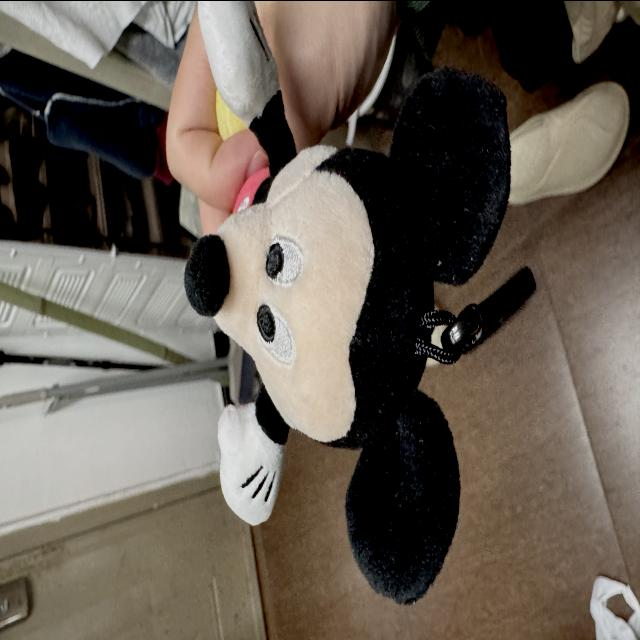mickey: (185, 1, 510, 601)
